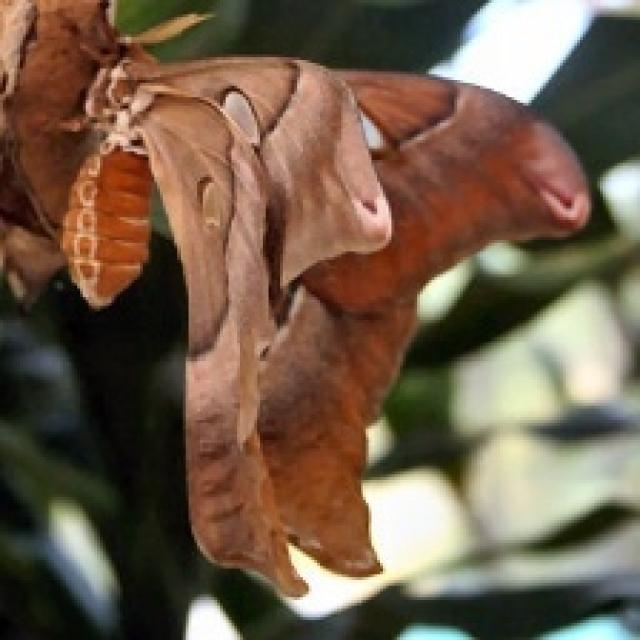butterfly: (0, 0, 591, 597)
